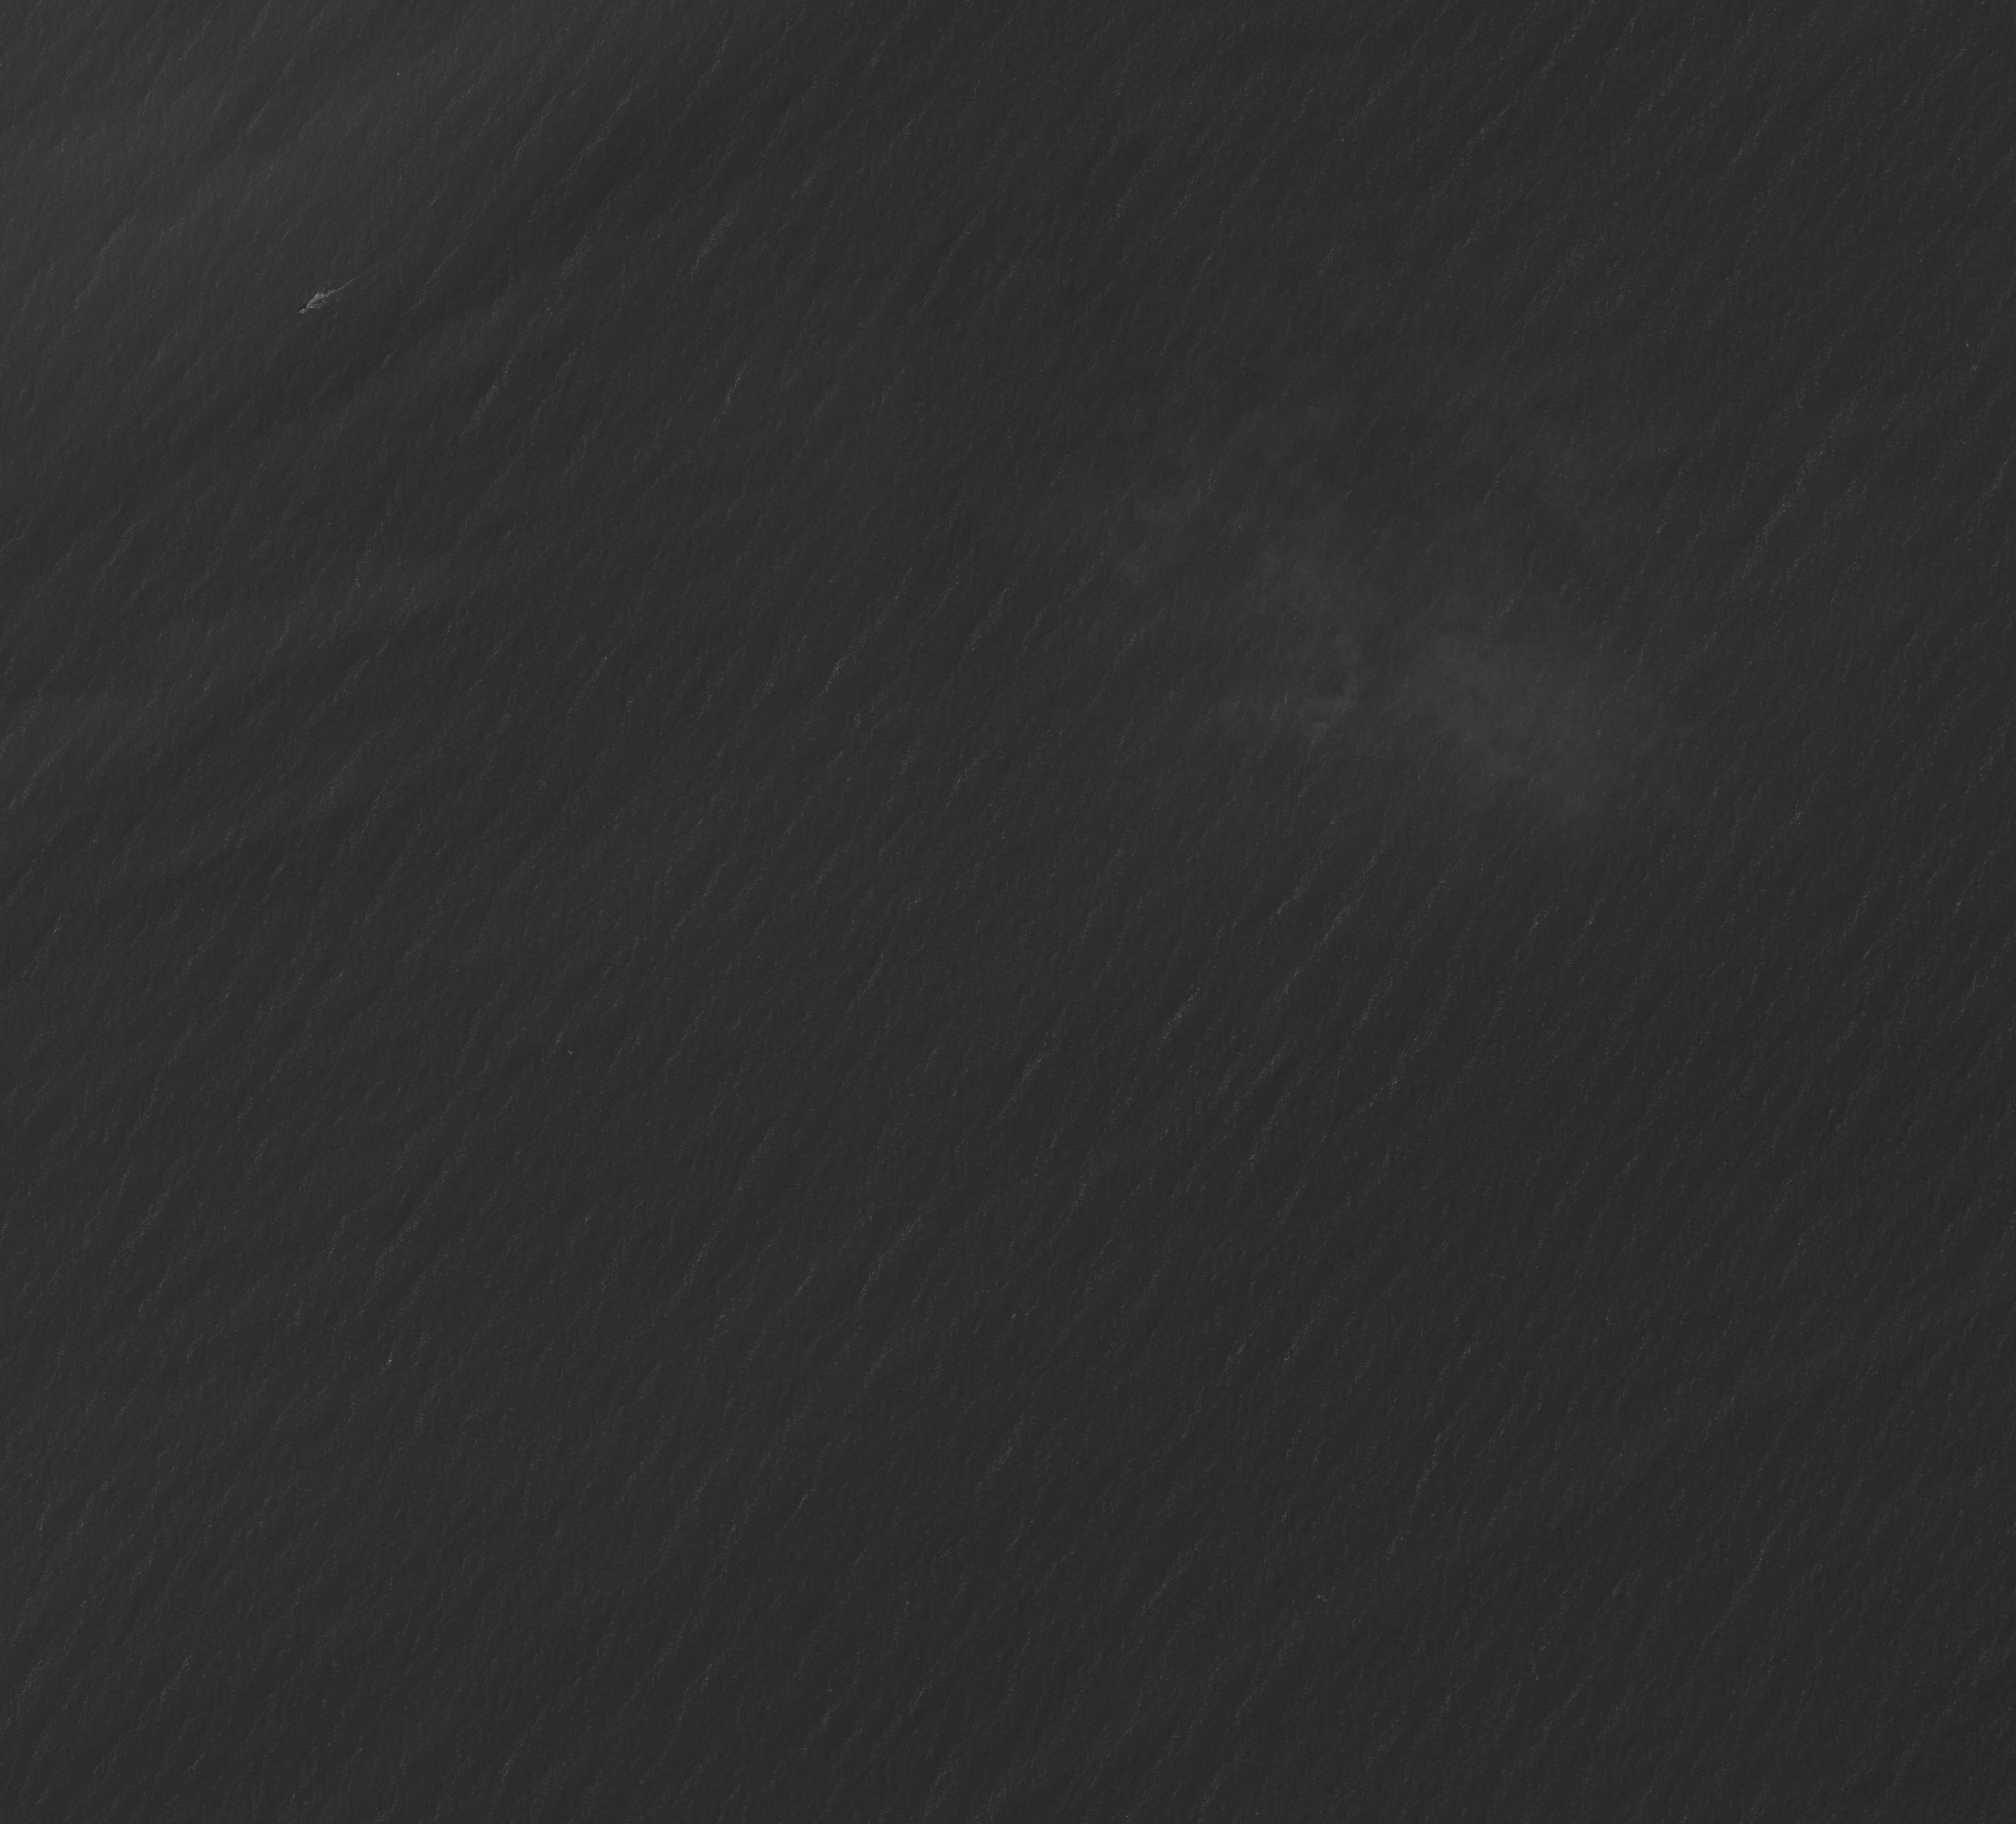ship: (297, 302, 311, 316)
